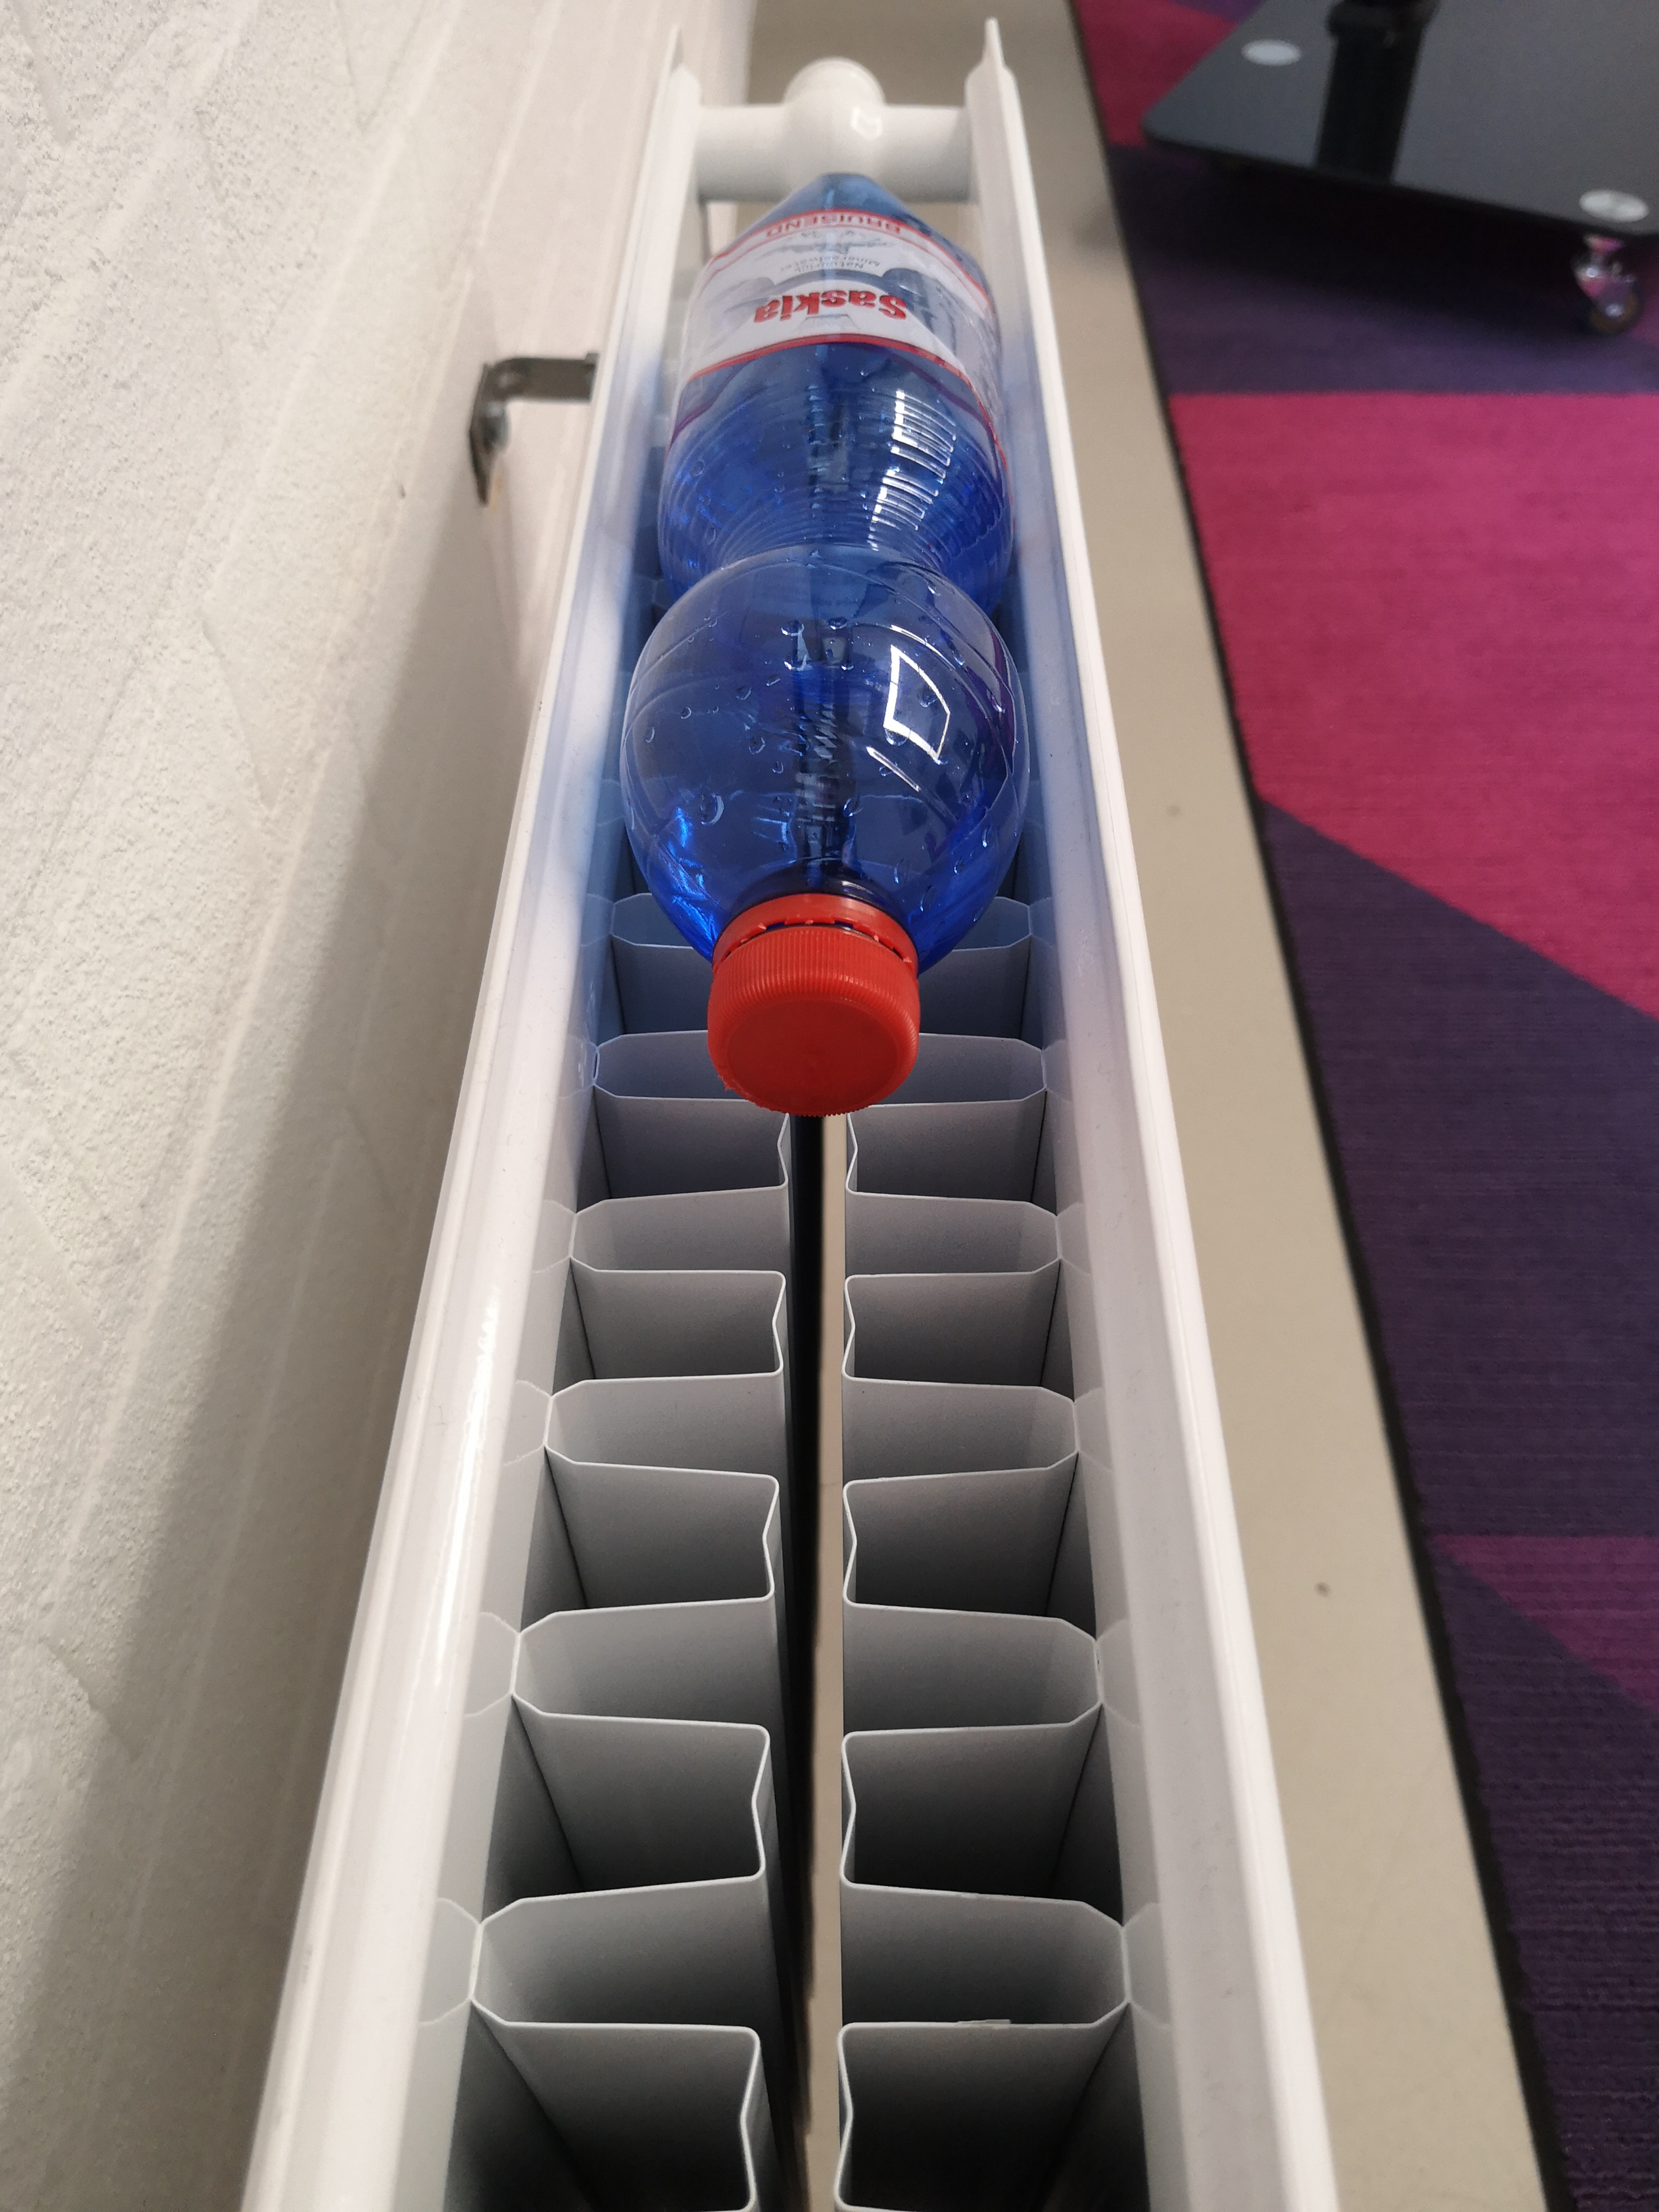plastic_bottle: (619, 169, 1030, 1139)
